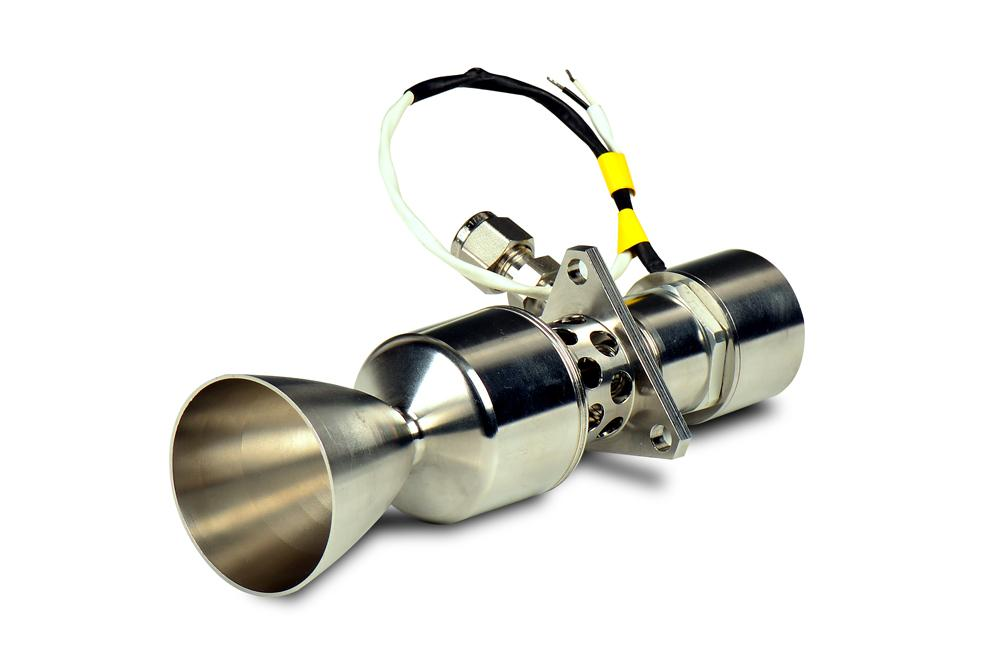thruster: (173, 370, 423, 600)
